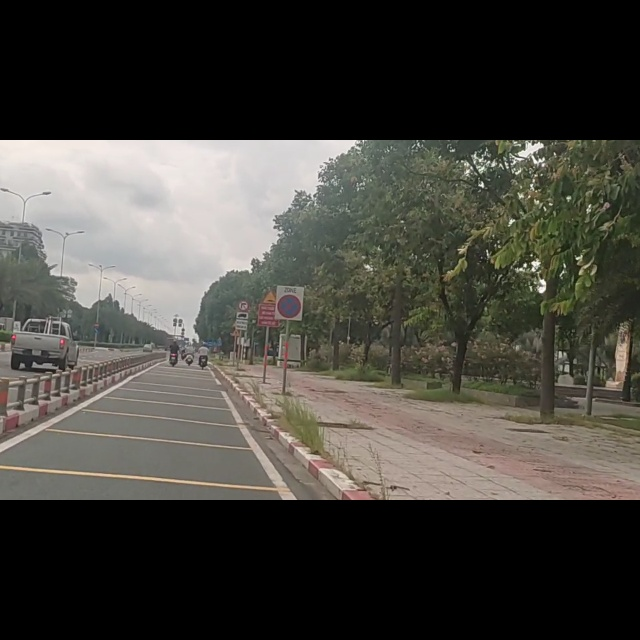bien_nguy_hiem: (275, 257, 305, 321), (234, 303, 249, 341), (237, 284, 250, 306)
